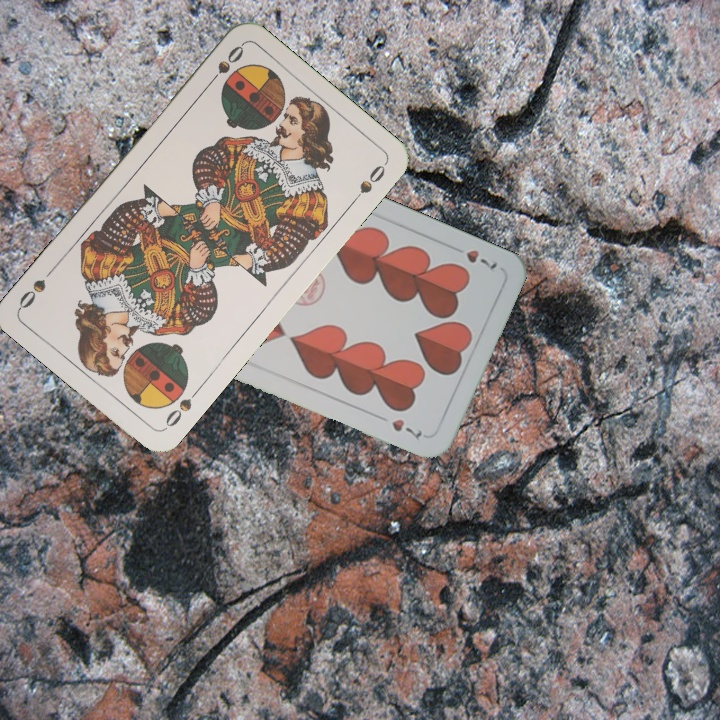H7: (446, 241, 500, 274)
SO: (202, 41, 247, 90), (160, 383, 203, 433)
